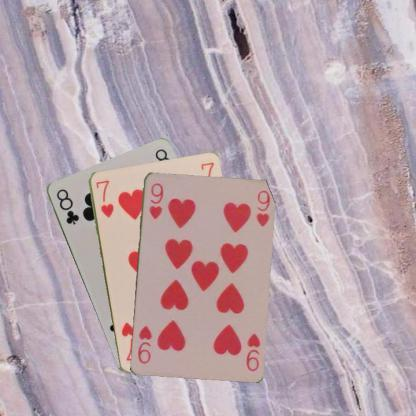7h: (93, 176, 115, 218)
8c: (53, 186, 80, 226)
9h: (146, 180, 165, 221), (243, 330, 261, 373)
